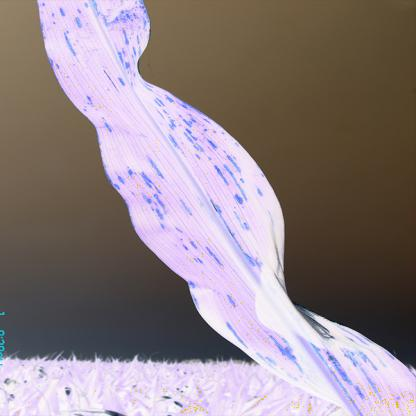corn leaf blight: (40, 2, 404, 400)
